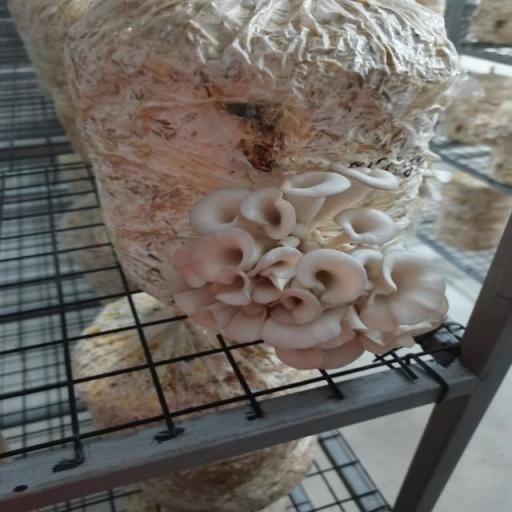White Oyster Mushroom: (160, 154, 457, 378)
